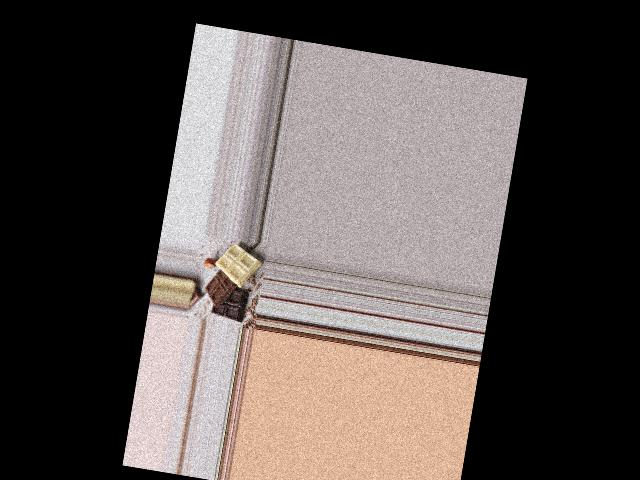chocolate: (199, 240, 260, 326)
